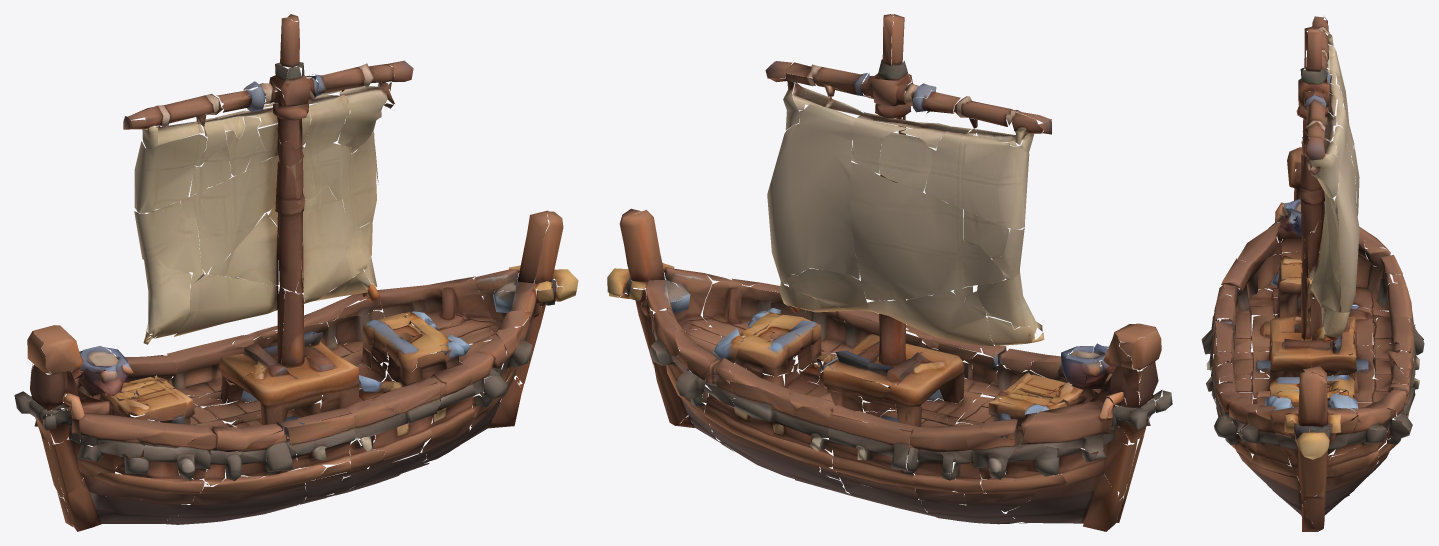
The model's file is veleiro.glb.
The picture shows the model from 3 angles, left to right: view 1: azimuth 30°, elevation 25°; view 2: azimuth 150°, elevation 25°; view 3: azimuth 270°, elevation 25°; orthographic projection. The views are drawn at different scales.
Visible parts, largest first — view 1: tripo_node_fd7433ea-32d4-4826-b421-09344ee2c3b9; view 2: tripo_node_fd7433ea-32d4-4826-b421-09344ee2c3b9; view 3: tripo_node_fd7433ea-32d4-4826-b421-09344ee2c3b9.
Part boxes in pixels (bbox=[...]): tripo_node_fd7433ea-32d4-4826-b421-09344ee2c3b9: bbox=[14, 14, 578, 531]; tripo_node_fd7433ea-32d4-4826-b421-09344ee2c3b9: bbox=[607, 14, 1172, 531]; tripo_node_fd7433ea-32d4-4826-b421-09344ee2c3b9: bbox=[1201, 16, 1424, 531].
Bounding box in the file's own units: 0.9992 × 0.8228 × 0.3981.
Materials: 1 (1 with a texture image).
